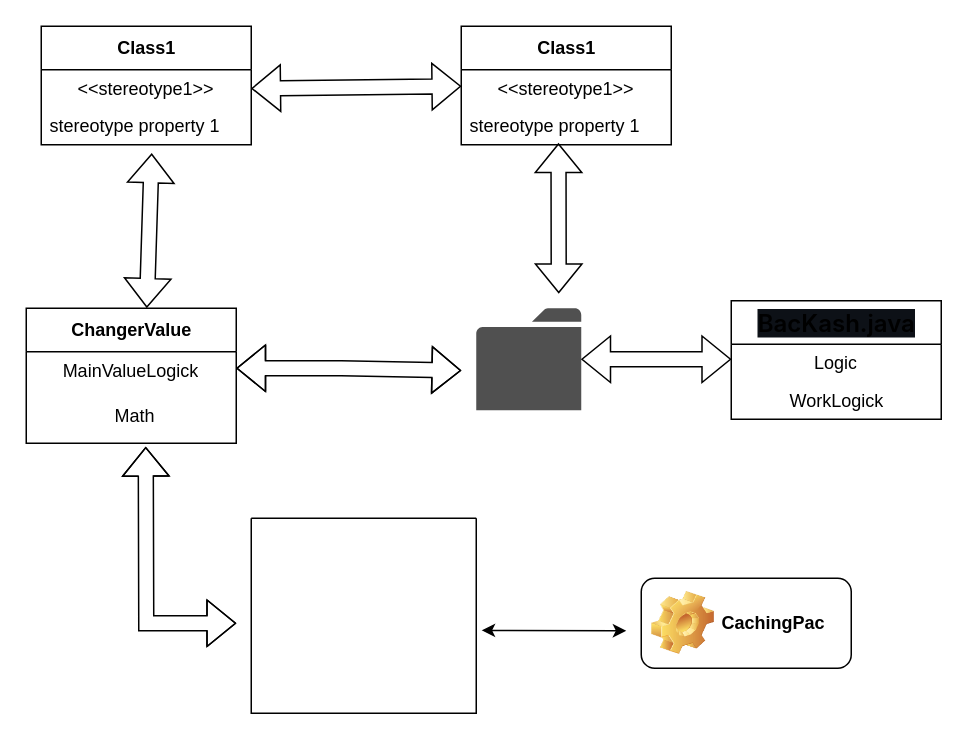
Image size: 968x740. Some labels were removed from this diagram. Each missing label, with the centre of its shape:
KAshiers: the point at 528,359
Main.Java: the point at 363,615
